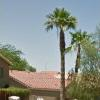Palm tree: (43, 7, 79, 67)
